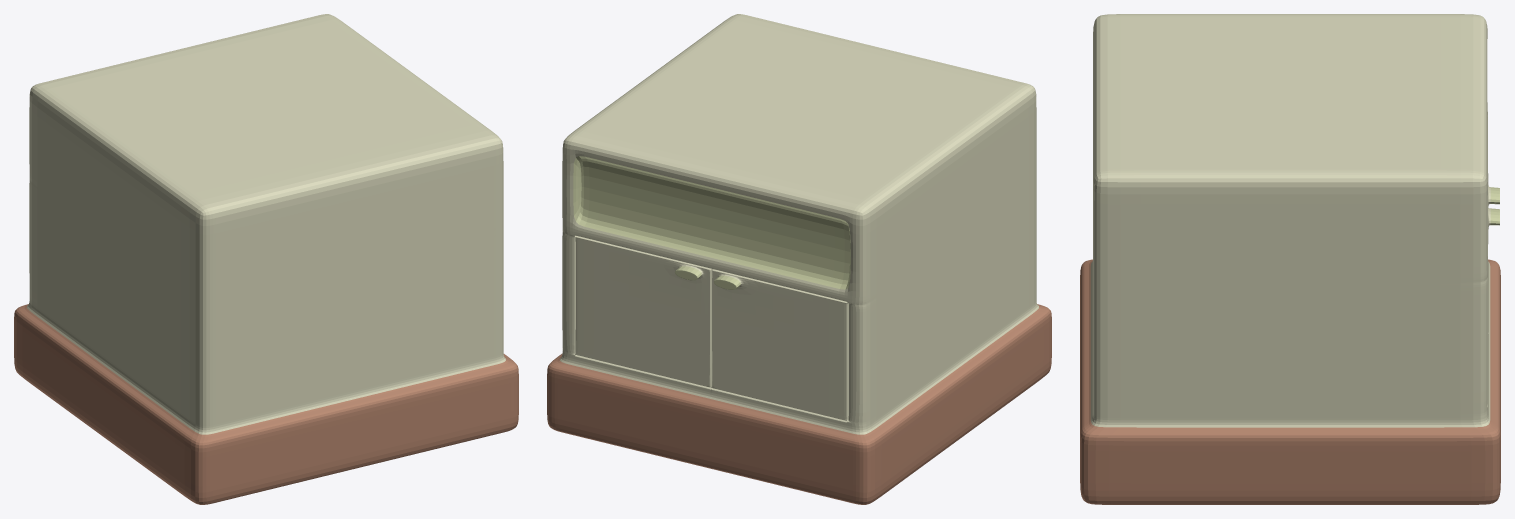
File: Simple_Stuff.fbx
The picture shows the model from 3 angles, left to right: view 1: azimuth 30°, elevation 25°; view 2: azimuth 150°, elevation 25°; view 3: azimuth 270°, elevation 25°; orthographic projection. The views are drawn at different scales.
Visible parts, largest first — view 1: 큐브.038; view 2: 큐브.038; view 3: 큐브.038.
Boxes of the visible parts, <box> form: 큐브.038: <box>14,14,518,504</box>; 큐브.038: <box>547,14,1051,504</box>; 큐브.038: <box>1080,14,1500,504</box>.
Bounding box in the file's own units: 315 × 269 × 315.
